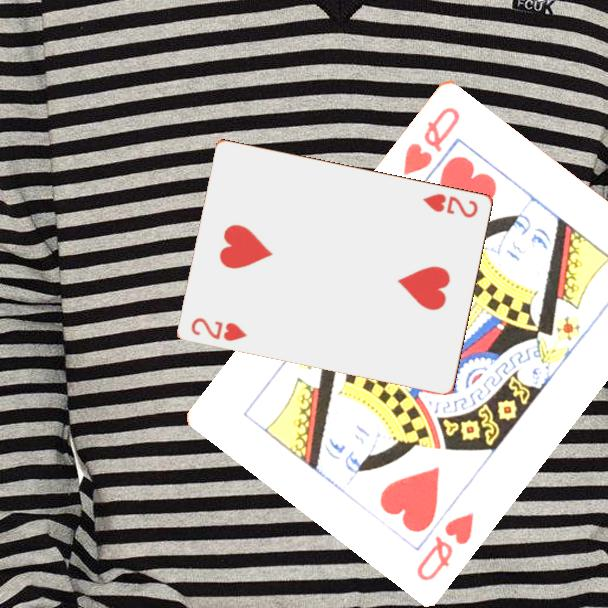h02: (419, 190, 481, 221), (188, 314, 250, 344)
h12: (412, 507, 477, 584), (399, 102, 463, 178)
